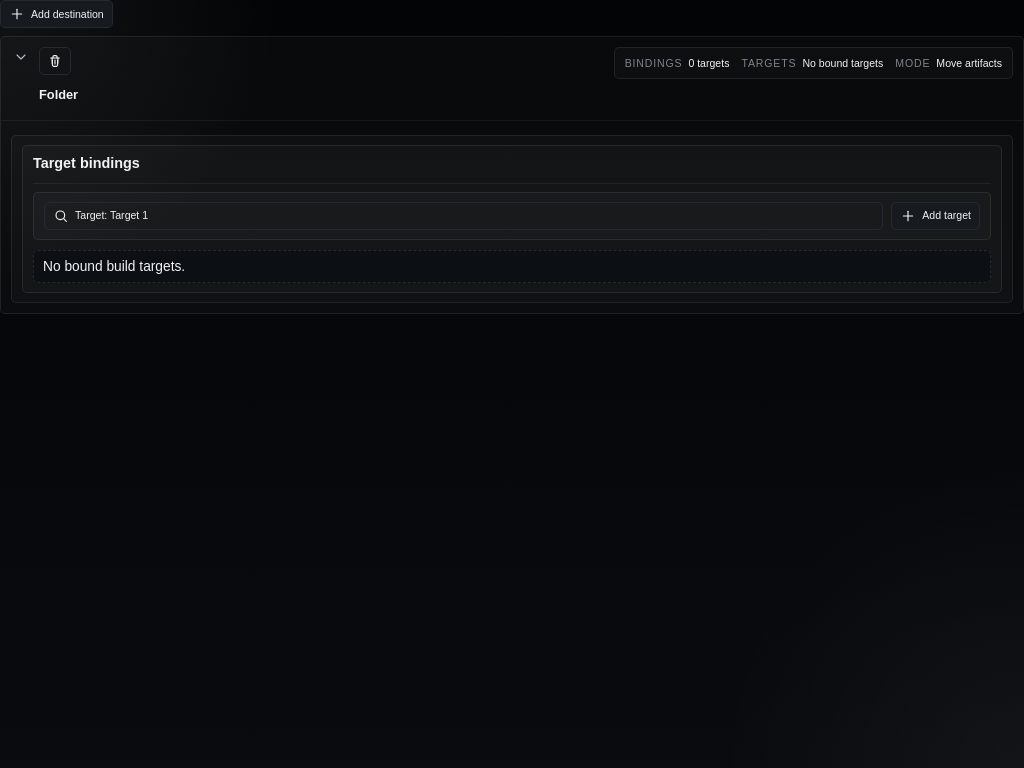
Scenario: PublishDestinationsEditor interactions › opens the binding target overlay when many unbound targets are available
The width and height of the screenshot is (1024, 768).
Click the button "Target: Target 1": (112, 215) [44,202,883,230]
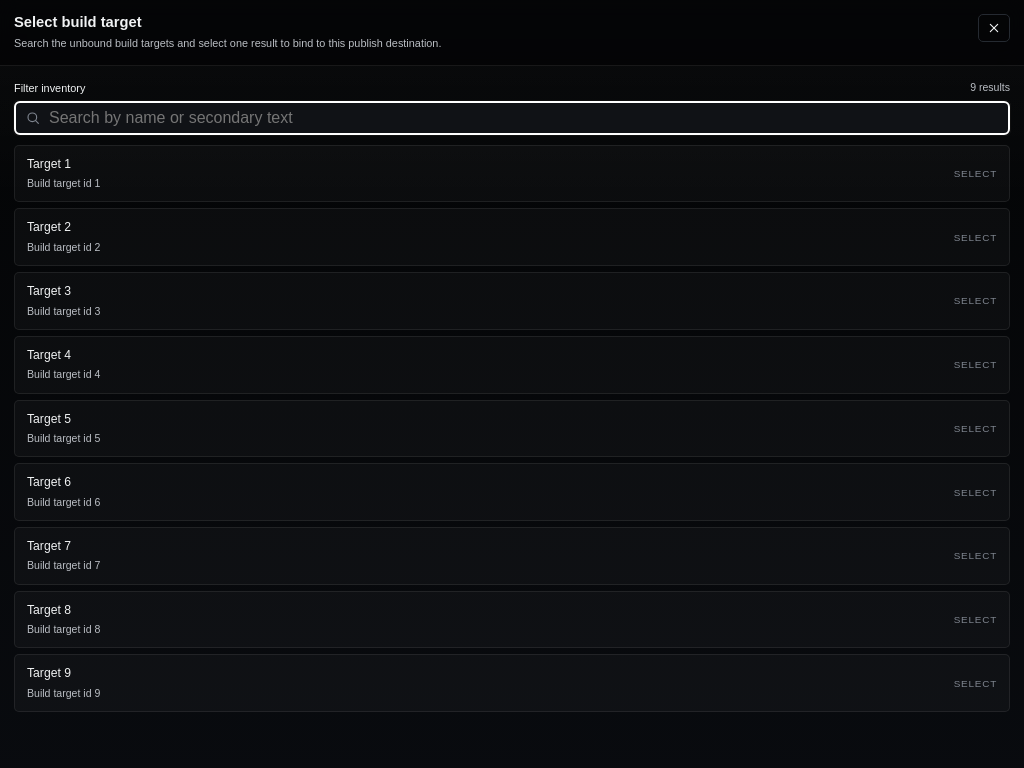
Click the button "Target 9 Build target id 9 Select": (49, 673) [14,654,1010,712]
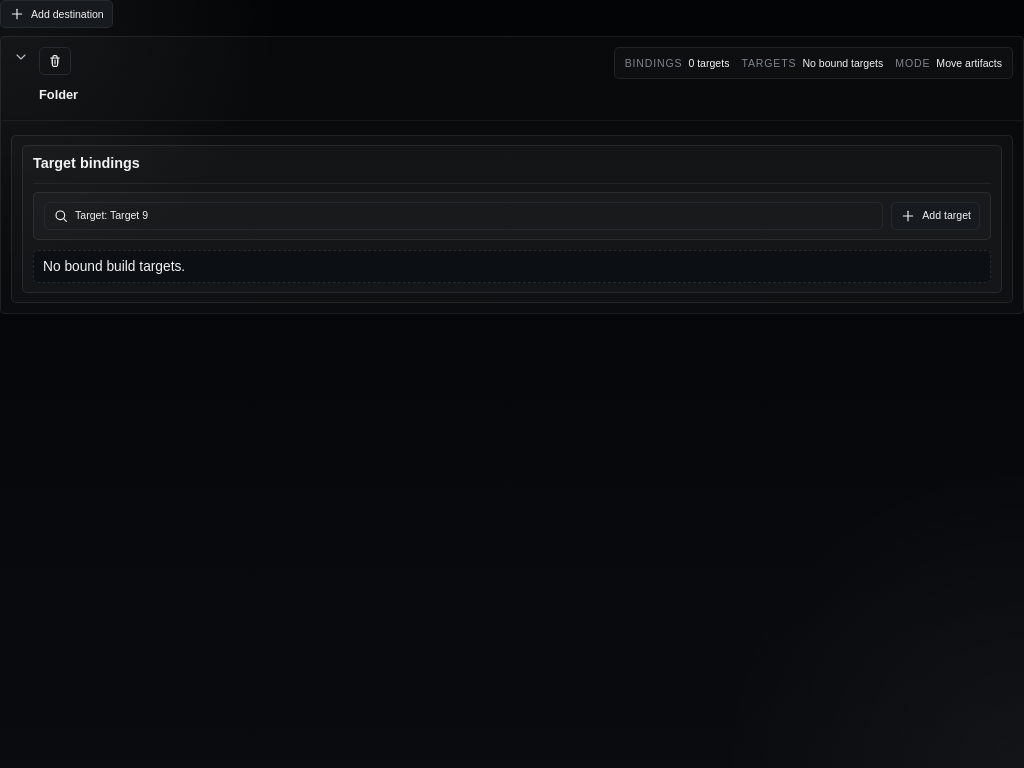
Check: the button "Target: Target 9" is shown, box [44,202,883,230]
Click the button "Add target": (936, 216) [891,202,980,230]
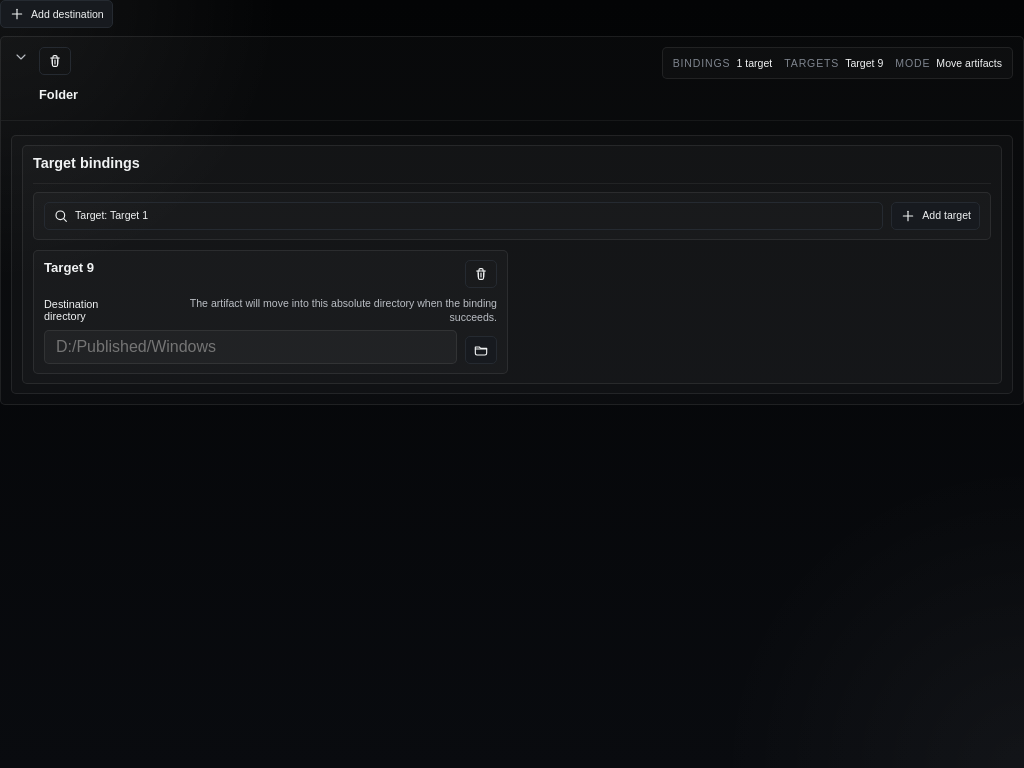
Check: the button named "Remove binding for Target 9" is shown, box [465,260,497,288]
